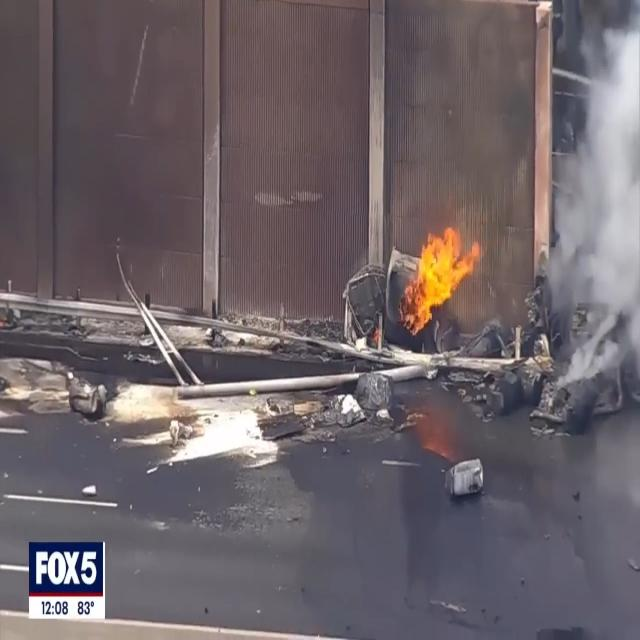fire: (406, 223, 476, 336)
